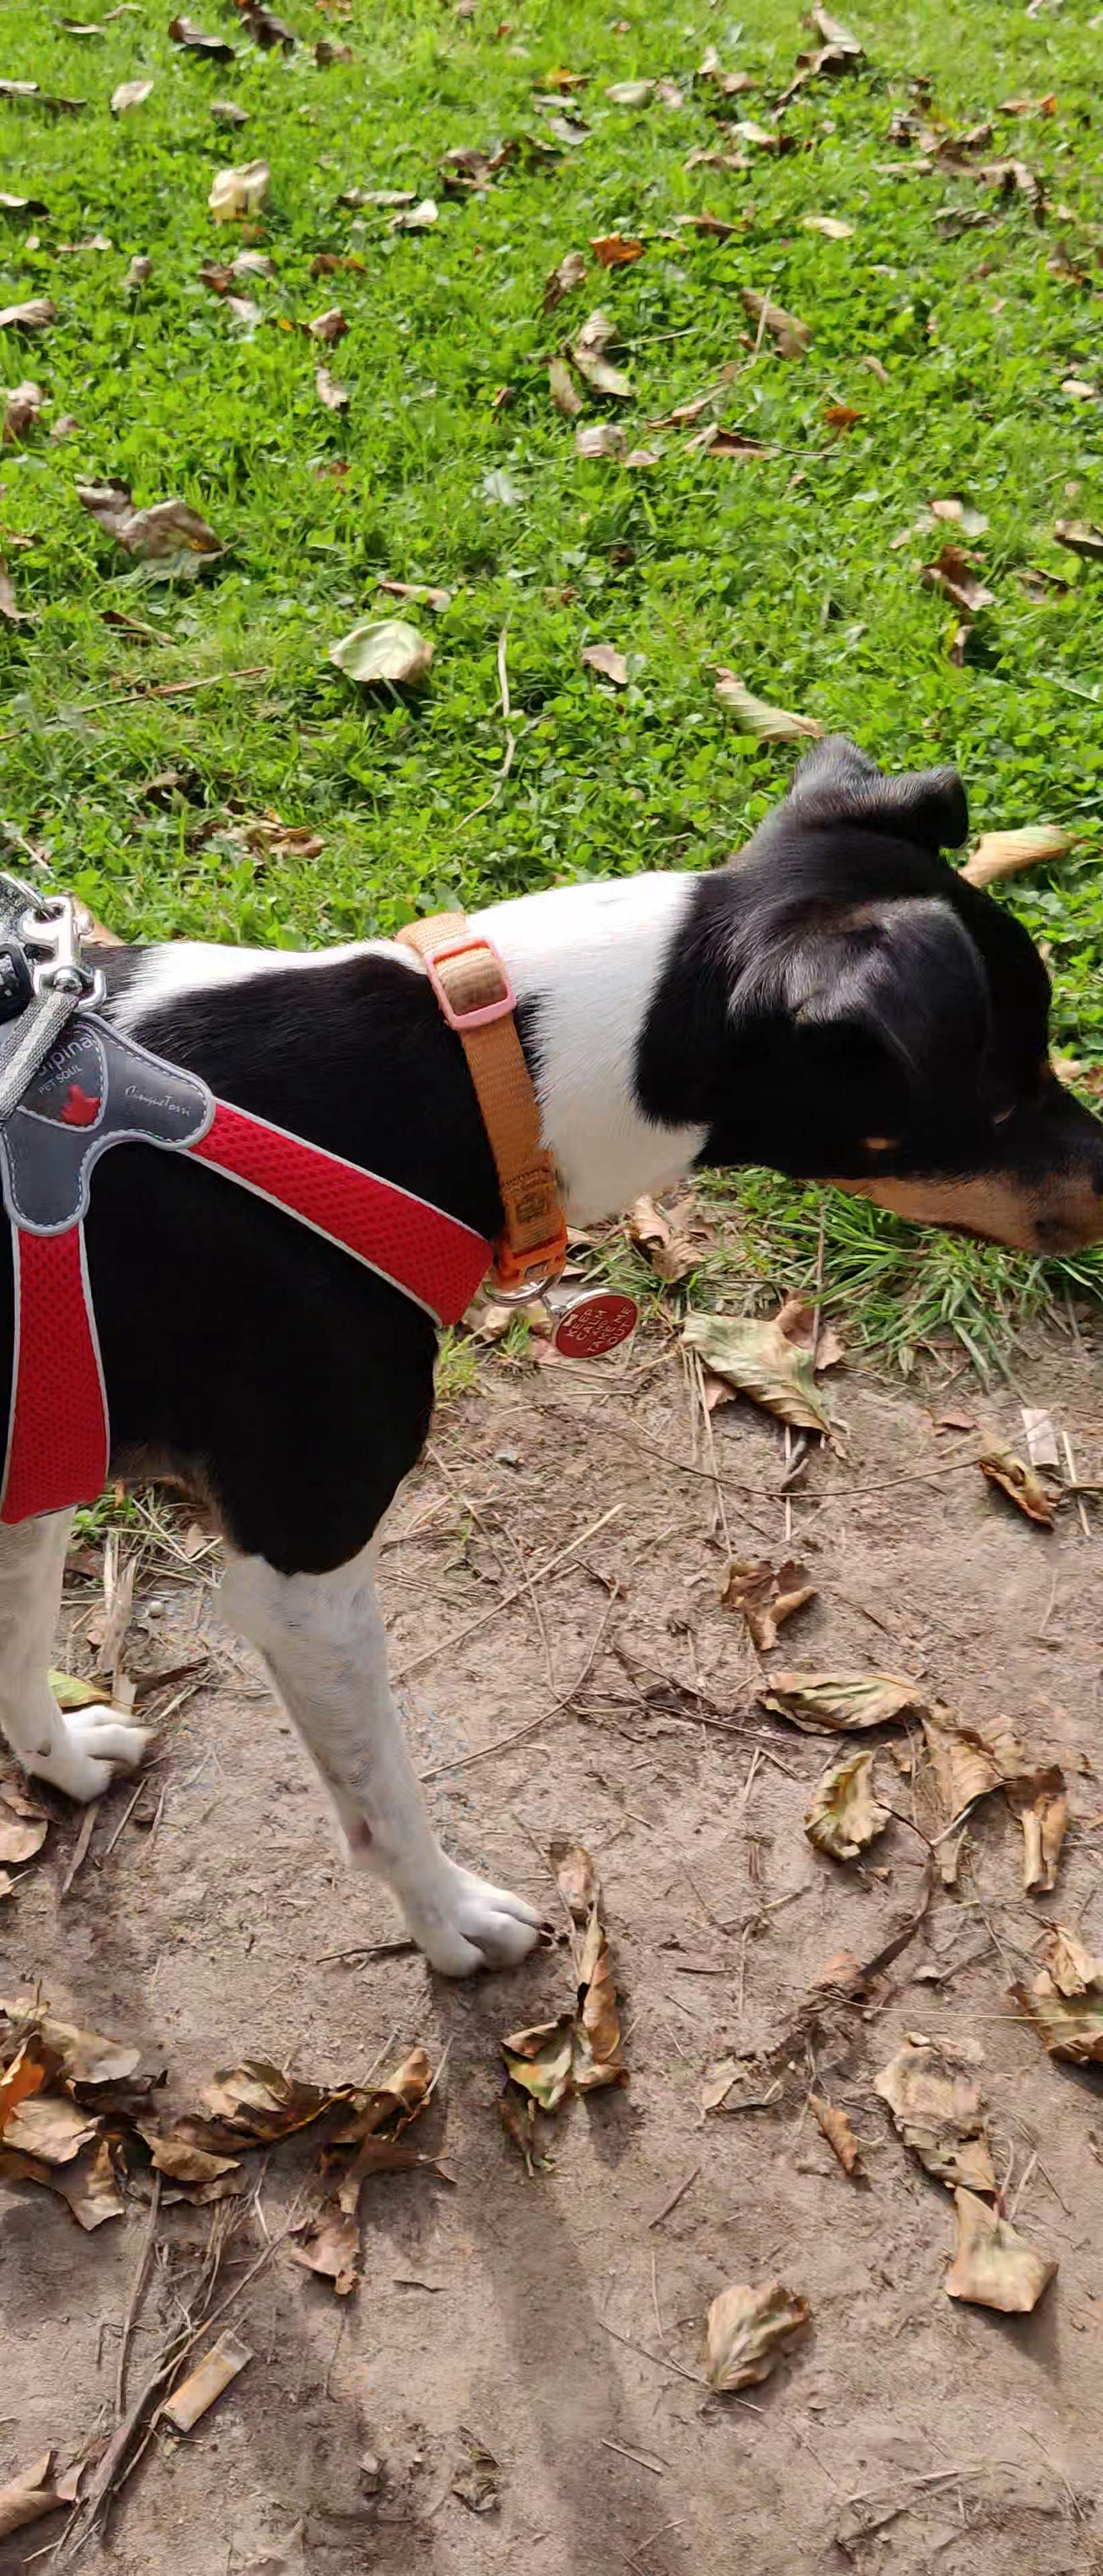Dog: (0, 733, 1103, 1986)
